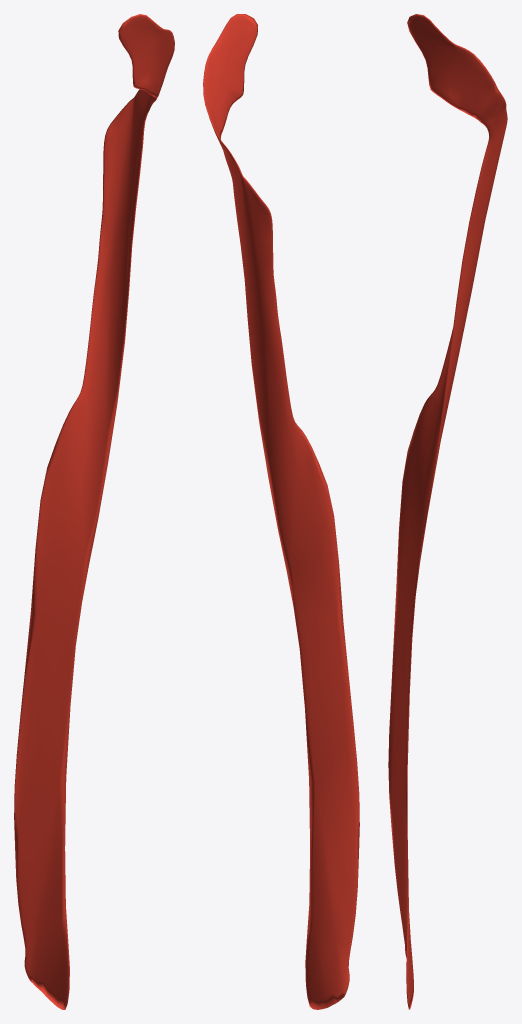
File: Origin_of_vastus_lateralis.l_Generated_Mesh_From_X3D.862.glb
3 views of the same model, side by side, from view 1: azimuth 30°, elevation 25°; view 2: azimuth 210°, elevation 25°; view 3: azimuth 330°, elevation 25° (orthographic). The views are drawn at different scales.
Parts seen in each view (by area): view 1: Origin_of_vastus_lateralis.l_Generated_Mesh_From_X3D.862; view 2: Origin_of_vastus_lateralis.l_Generated_Mesh_From_X3D.862; view 3: Origin_of_vastus_lateralis.l_Generated_Mesh_From_X3D.862.
Part boxes in pixels (x1,y1,x2,y2): Origin_of_vastus_lateralis.l_Generated_Mesh_From_X3D.862: [14, 14, 174, 1009]; Origin_of_vastus_lateralis.l_Generated_Mesh_From_X3D.862: [203, 14, 359, 1009]; Origin_of_vastus_lateralis.l_Generated_Mesh_From_X3D.862: [388, 14, 507, 1009].
Size of the model in its own units: 0.0425 by 0.3118 by 0.0291.
